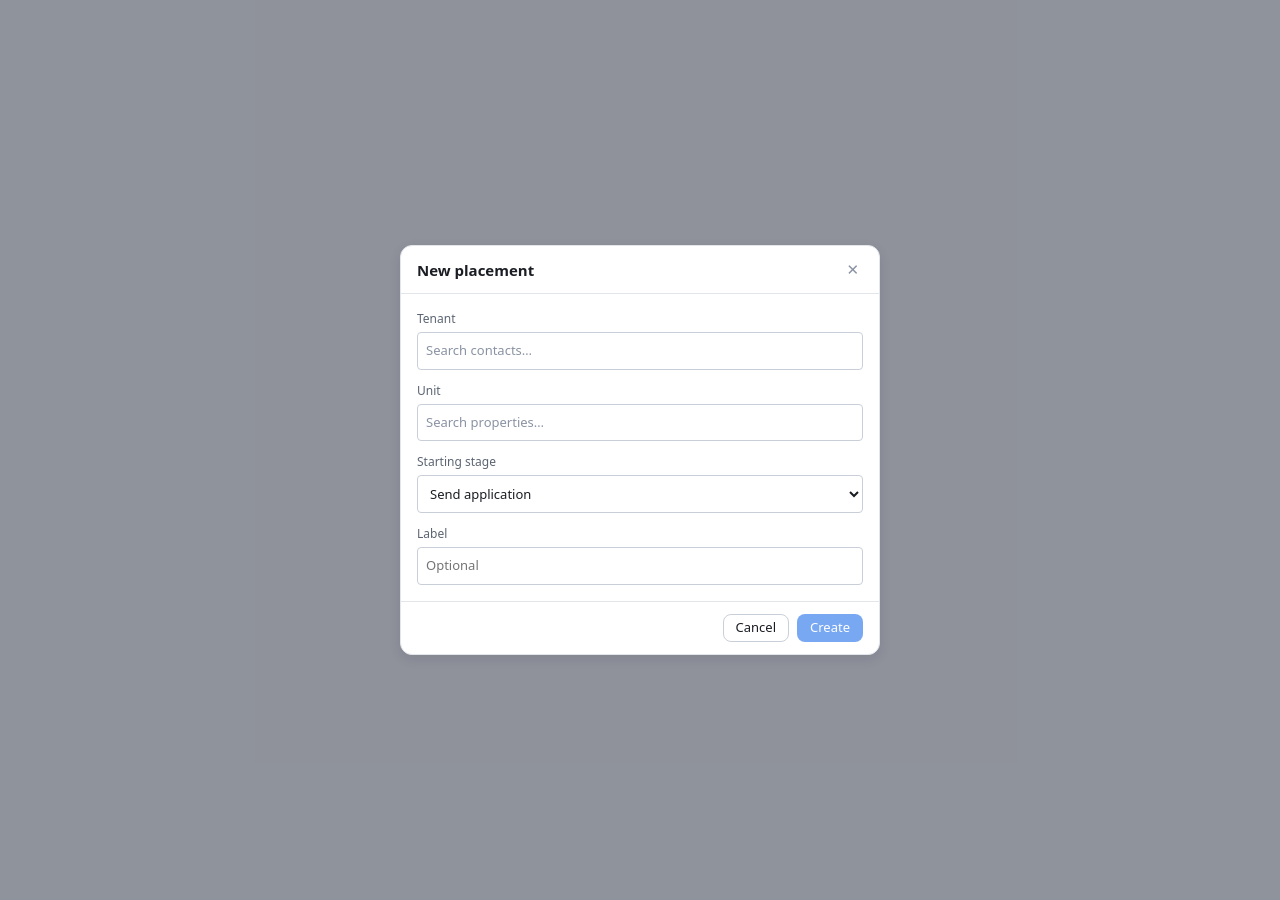
Test case: PlacementCreateForm › tenant picker: typing + clicking an option selects that tenant
The image size is (1280, 900).
Type "Tasha" into the dropdown named "Tenant" at (640, 351), box left=417, top=332, right=863, bottom=370
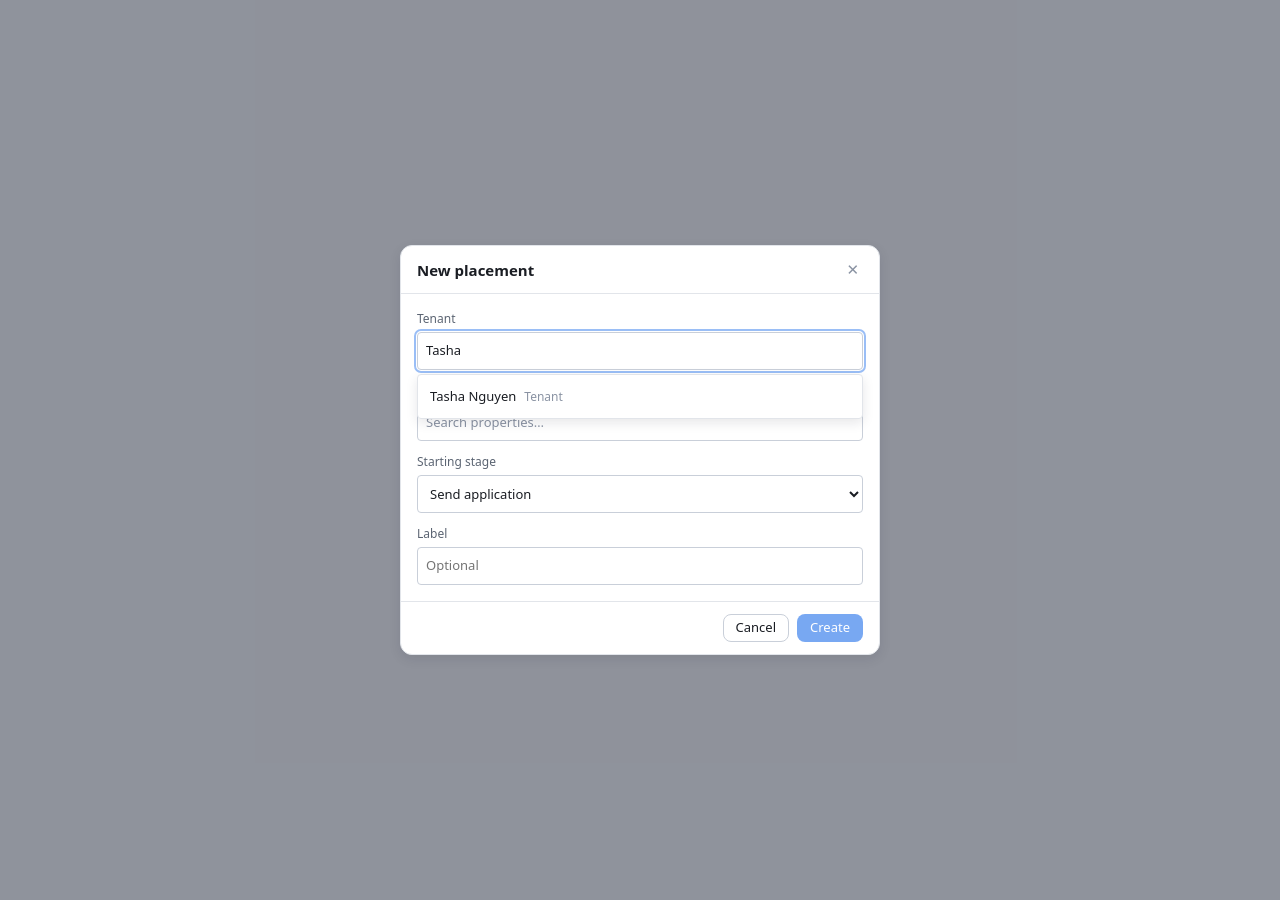
Click the option "Tasha Nguyen" at (496, 396), box left=430, top=387, right=563, bottom=405
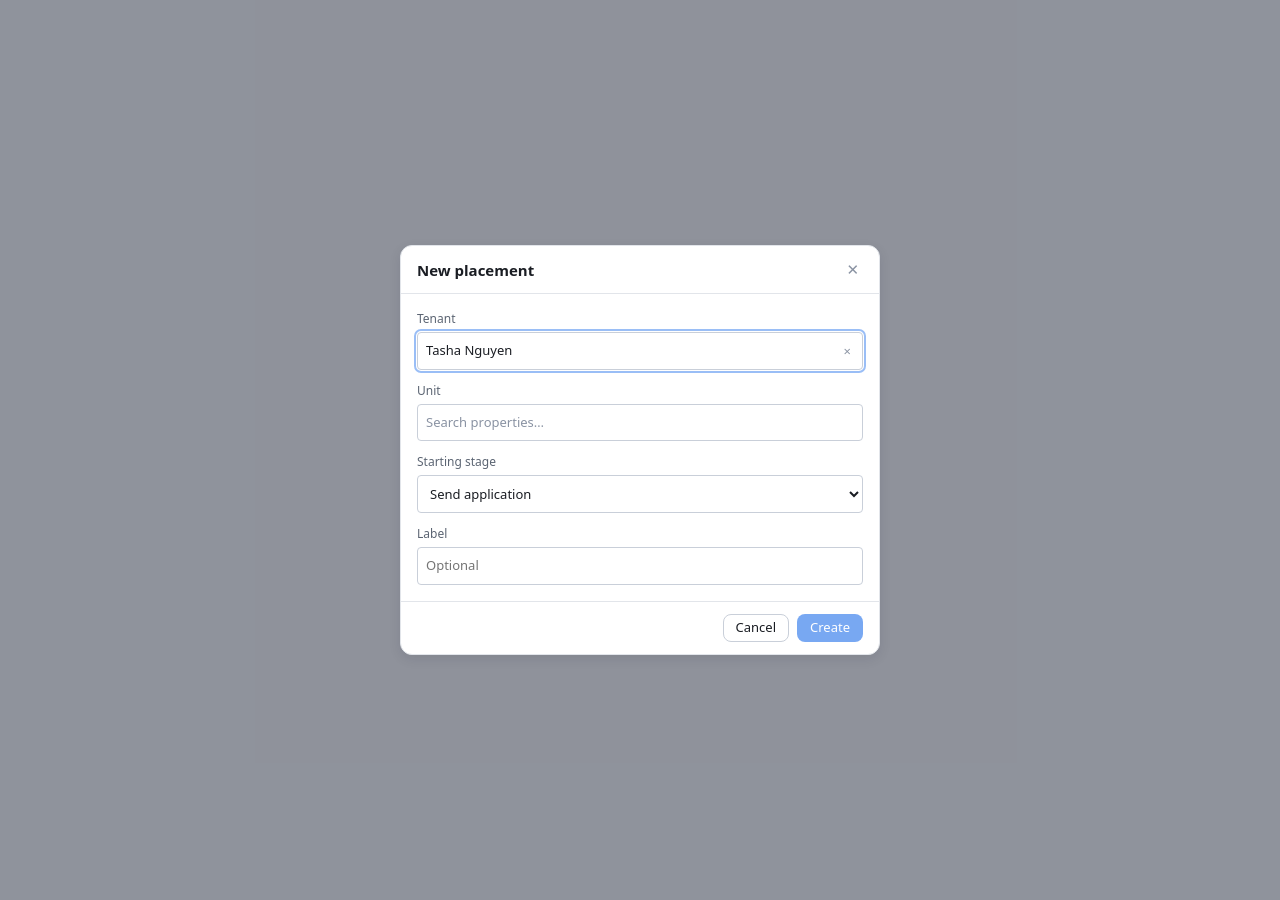
Now the dropdown named "Tenant" holds "Tasha Nguyen", box left=417, top=332, right=863, bottom=370
